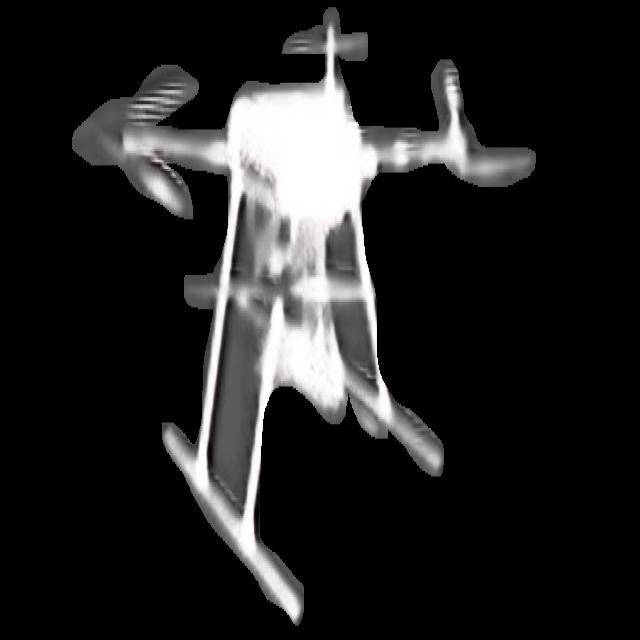drone: (46, 4, 566, 614)
